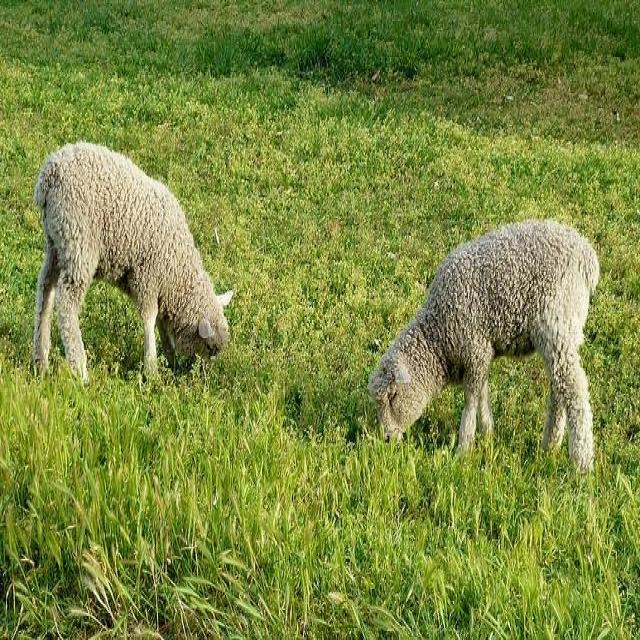Sheep: (362, 218, 598, 469), (33, 141, 235, 383)
